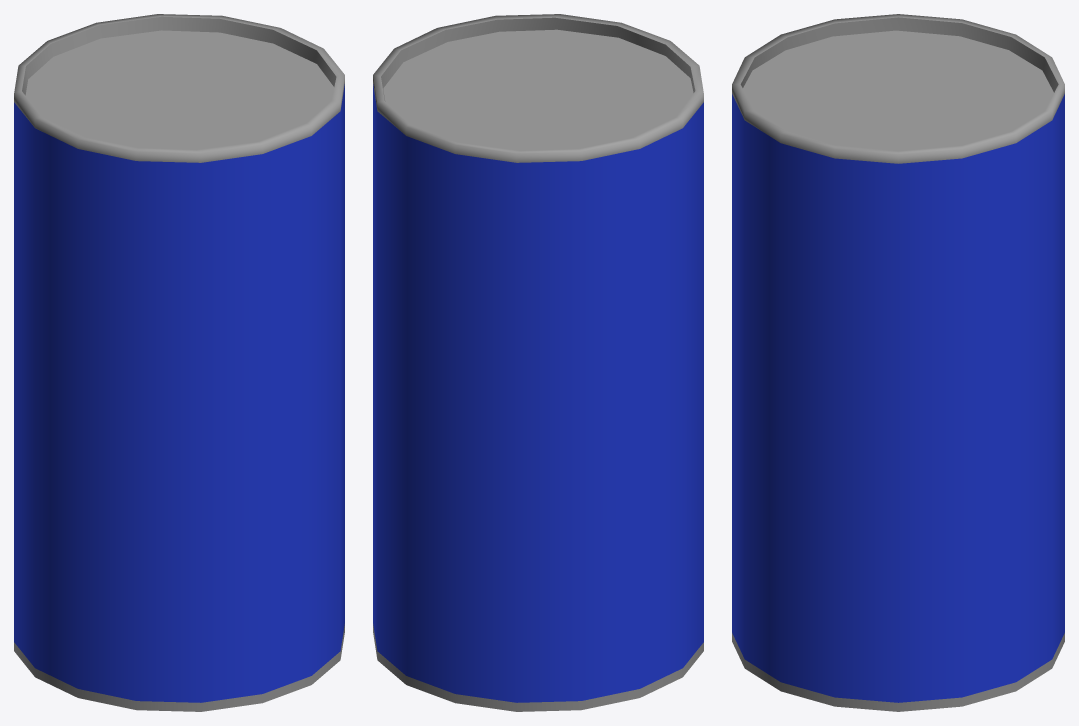
Rendered from Can.fbx.
The picture shows the model from 3 angles, left to right: view 1: azimuth 30°, elevation 25°; view 2: azimuth 150°, elevation 25°; view 3: azimuth 270°, elevation 25°; orthographic projection.
Visible parts, largest first — view 1: Can; view 2: Can; view 3: Can.
Boxes of the visible parts, x1,y1,x2,y2 form: Can: [14, 14, 344, 711]; Can: [373, 14, 703, 711]; Can: [732, 14, 1064, 711].
Size of the model in its own units: 6.6 by 12.19 by 6.6.
